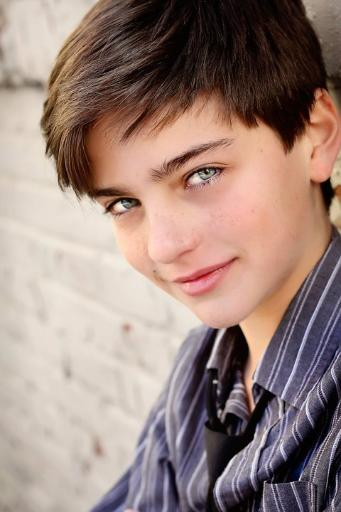left_eye: (182, 162, 234, 191)
left_lip_corner: (226, 253, 244, 270)
right_eye: (104, 196, 142, 218)
right_lip_corner: (168, 279, 183, 287)
